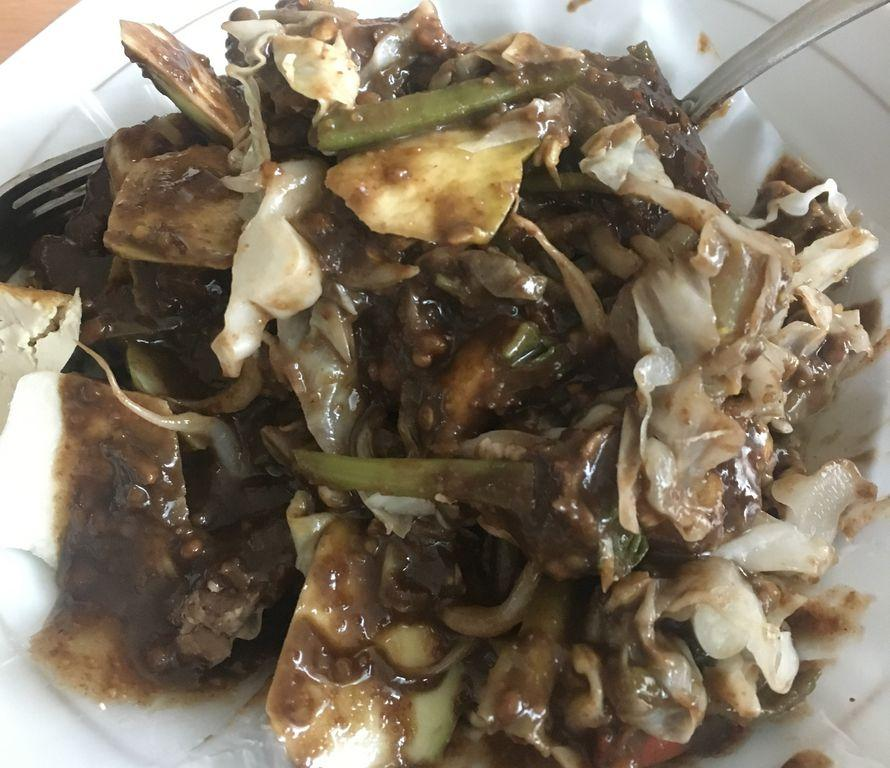rujak_cingur: (2, 1, 890, 768)
